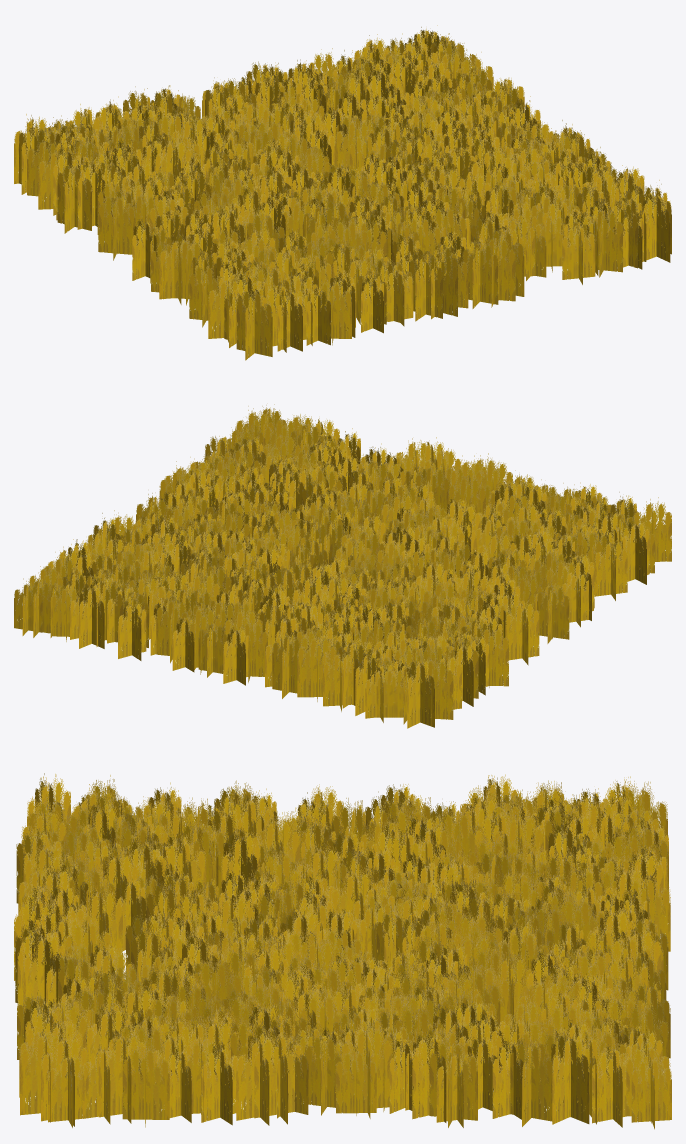
The model's file is Farmi_Pelto_10m_LOD1.fbx.
The picture shows the model from 3 angles, top to bottom: view 1: azimuth 30°, elevation 25°; view 2: azimuth 150°, elevation 25°; view 3: azimuth 270°, elevation 25°; orthographic projection. The views are drawn at different scales.
Parts seen in each view (by area): view 1: Farmi_Pelto_10m_LOD1; view 2: Farmi_Pelto_10m_LOD1; view 3: Farmi_Pelto_10m_LOD1.
Boxes of the visible parts, box(x1,y1,x2,y2) form: Farmi_Pelto_10m_LOD1: box(14, 25, 671, 360); Farmi_Pelto_10m_LOD1: box(14, 404, 671, 728); Farmi_Pelto_10m_LOD1: box(14, 773, 671, 1129).
Bounding box in the file's own units: 1065 × 171 × 1057.
